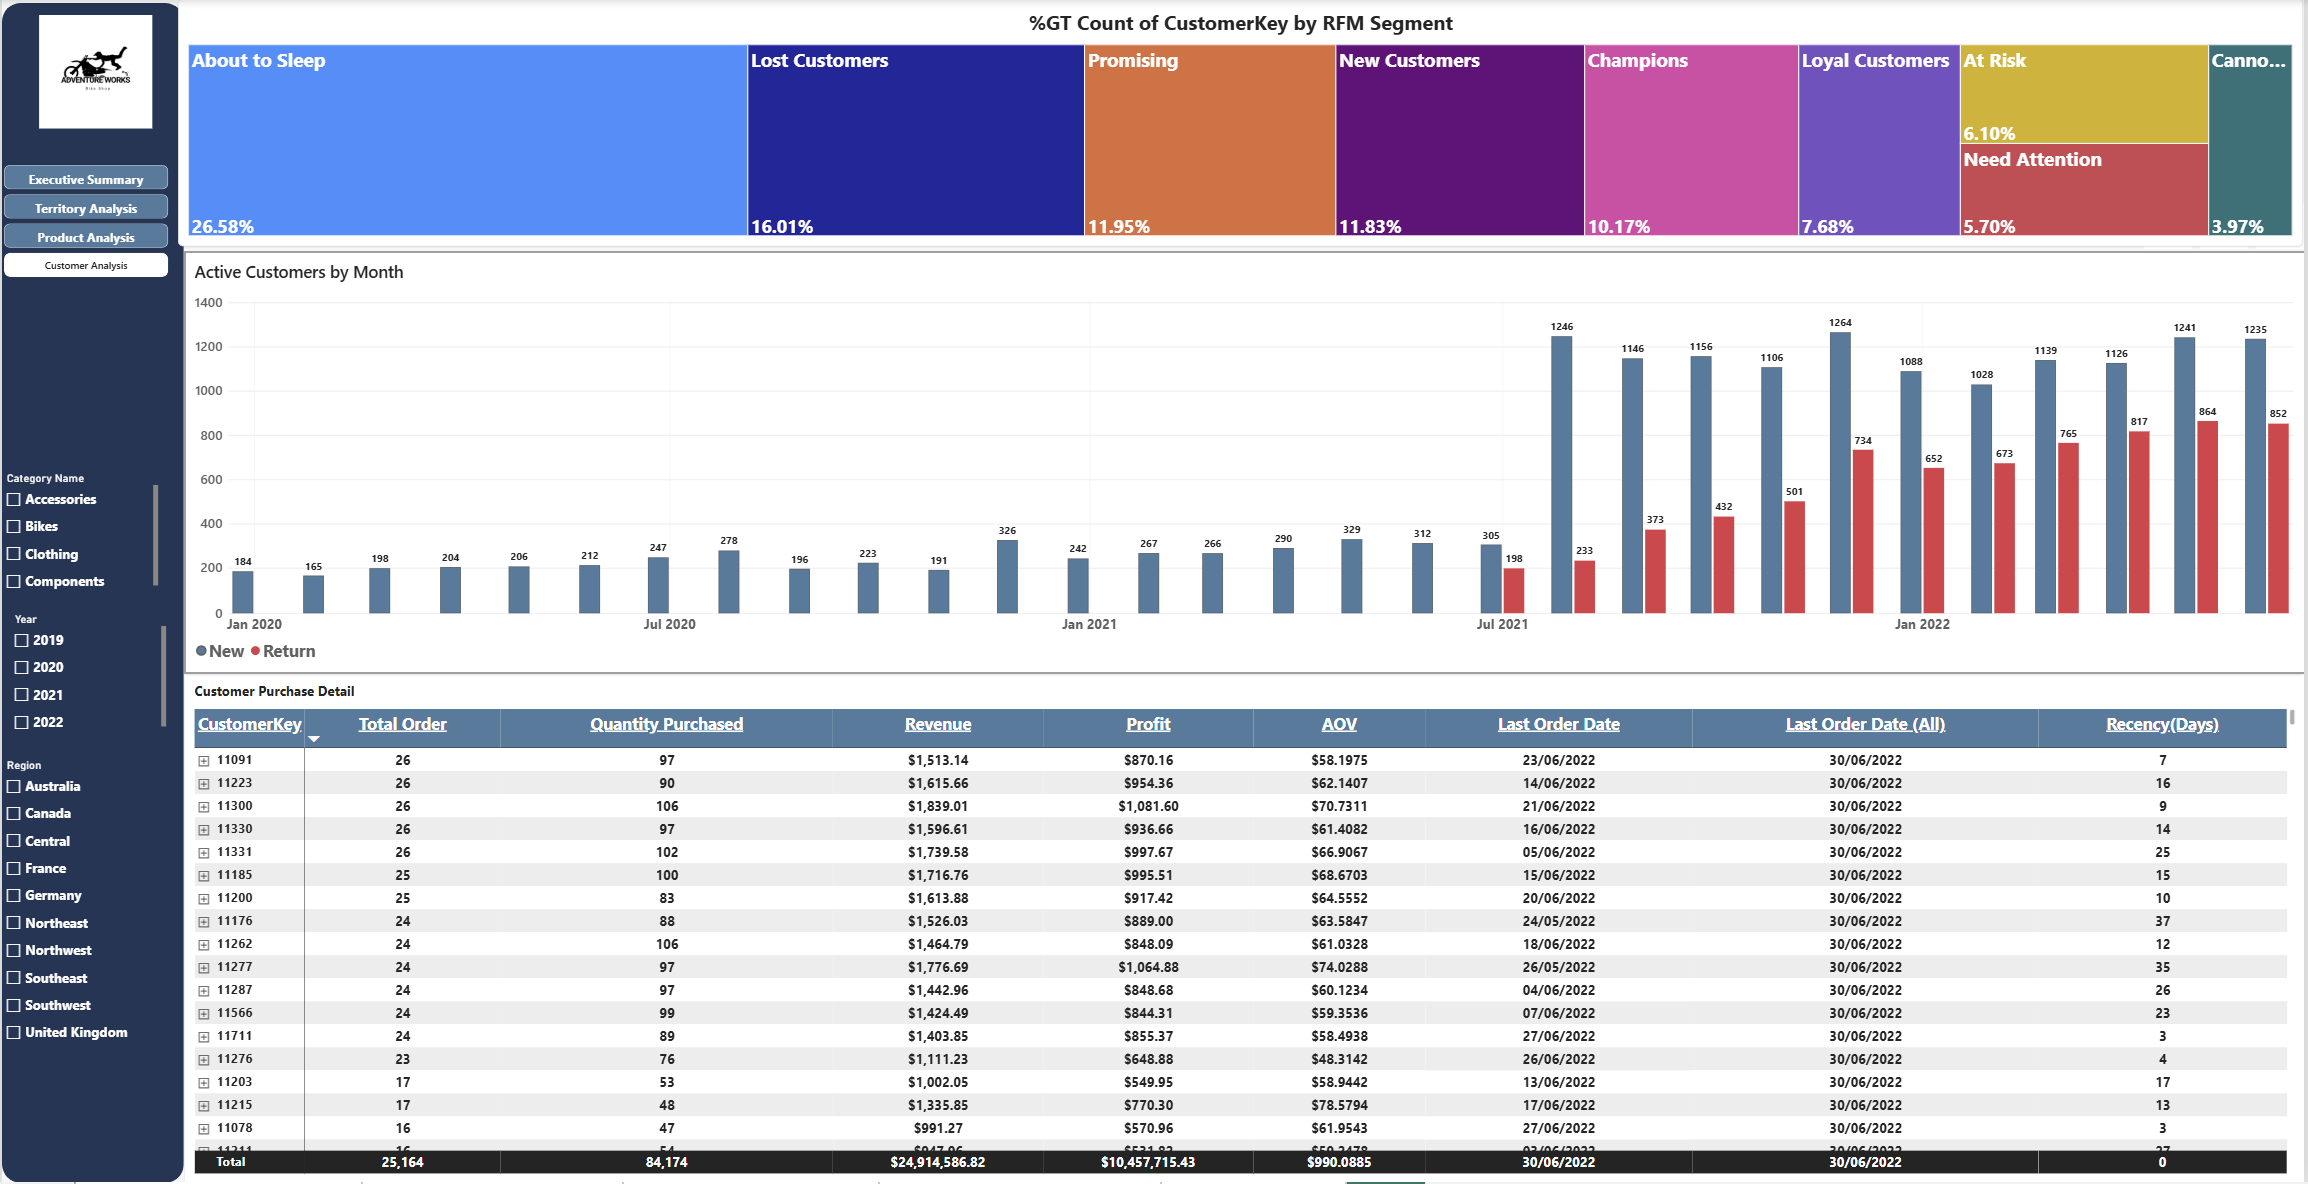

This screenshot's page, from the dashboard's own definition file:
{"tool":"powerbi","page":{"name":"Customer Analysis ","canvas":[3700,1900],"ordinal":3},"visuals":[{"type":"shape","box":[0,7.7,292.3,1894.9],"z":0},{"type":"image","box":[9.7,26.7,281.9,182.3],"z":1000},{"type":"slicer","fields":{"Values":["DimDate.Year"]},"box":[14.1,983.5,251.1,195.8],"z":2000},{"type":"slicer","fields":{"Values":["DimTerritory.Region"]},"box":[0,1217.7,250.3,463.1],"z":3000},{"type":"slicer","fields":{"Values":["DimProduct Categories.Category Name"]},"box":[0,758.7,251.1,195.8],"z":4000},{"type":"pivotTable","title":"Customer Purchase Detail","fields":{"Rows":["DimCustomer.CustomerKey","DimCustomer.Full Name","DimCustomer.Gender","DimCustomer.EducationLevel","DimCustomer.Parent","DimCustomer.Occupation"],"Values":["_Measures.Total Order","_Measures.Quantity Sold","_Measures.Total Revenue","_Measures.Total Profit","_Measures.AOV","_Measures.Last Order Date","_Measures.Last Order Date (All)","_Measures.Recency(Days)"]},"box":[292.3,1079.5,3410.3,823.1],"z":6000},{"type":"clusteredColumnChart","title":"Active Customers by Month","fields":{"Category":["DimDate.Start of the Month"],"Series":["FactSales.New or Return Customer"],"Y":["_Measures.Active Customers"]},"box":[293.4,403.9,3410.4,678.3],"z":7000},{"type":"treemap","fields":{"Group":["RFM Segments.RFM Segment"],"Values":["CountNonNull(RFM Table.CustomerKey)"]},"box":[282.1,0,3415.4,397.4],"z":7001},{"type":"pageNavigator","box":[4.7,267,264.6,180.4],"z":7002}]}

Visuals, with their boxes on the page's 3700x1900 design canvas (x1, y1, x2, y2). These are canvas units, not pixel positions in the 2308x1184 screenshot, which may show the page scaled, cropped or inside an application window:
shape: x1=0 y1=8 x2=292 y2=1903
image: x1=10 y1=27 x2=292 y2=209
slicer - DimDate.Year: x1=14 y1=984 x2=265 y2=1179
slicer - DimTerritory.Region: x1=0 y1=1218 x2=250 y2=1681
slicer - DimProduct Categories.Category Name: x1=0 y1=759 x2=251 y2=954
"Customer Purchase Detail" pivotTable: x1=292 y1=1080 x2=3703 y2=1903
"Active Customers by Month" clusteredColumnChart: x1=293 y1=404 x2=3704 y2=1082
treemap - RFM Segments.RFM Segment x CountNonNull(RFM Table.CustomerKey): x1=282 y1=0 x2=3698 y2=397
pageNavigator: x1=5 y1=267 x2=269 y2=447
